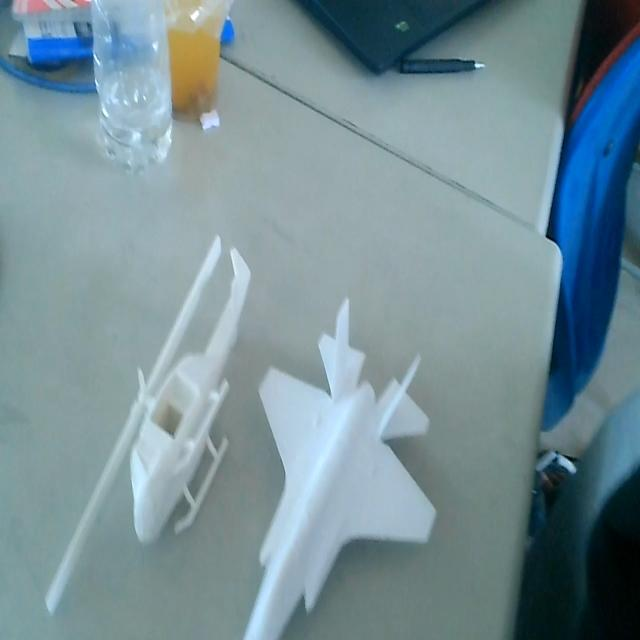Helicopter: (48, 234, 252, 640)
Jet: (243, 292, 440, 640)
